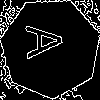A: (25, 23, 73, 60)
